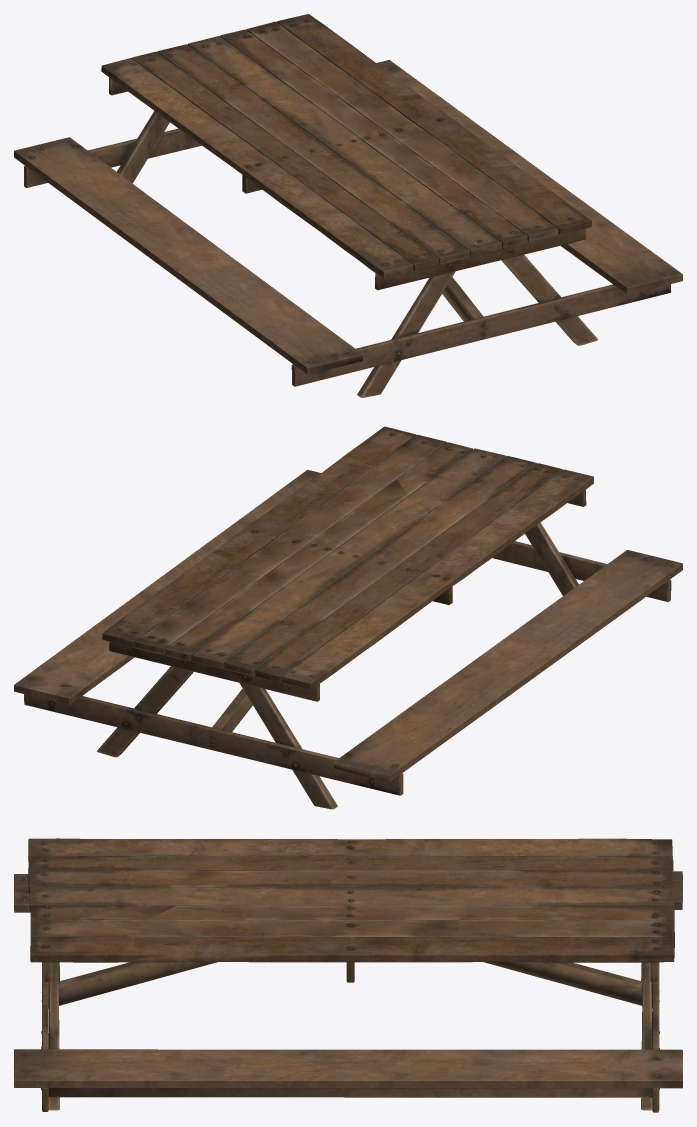
Rendered from wooden_picnic_table.glb.
The picture shows the model from 3 angles, top to bottom: view 1: azimuth 30°, elevation 25°; view 2: azimuth 150°, elevation 25°; view 3: azimuth 270°, elevation 25°; orthographic projection. The views are drawn at different scales.
Parts seen in each view (by area): view 1: wooden_picnic_table; view 2: wooden_picnic_table; view 3: wooden_picnic_table.
Part boxes in pixels (box(x1,y1,x2,y2)): wooden_picnic_table: box(14, 14, 682, 397); wooden_picnic_table: box(14, 426, 682, 809); wooden_picnic_table: box(14, 838, 682, 1112).
Bounding box in the file's own units: 2.24 × 0.746 × 3.02.
Materials: 2 (2 with a texture image).
